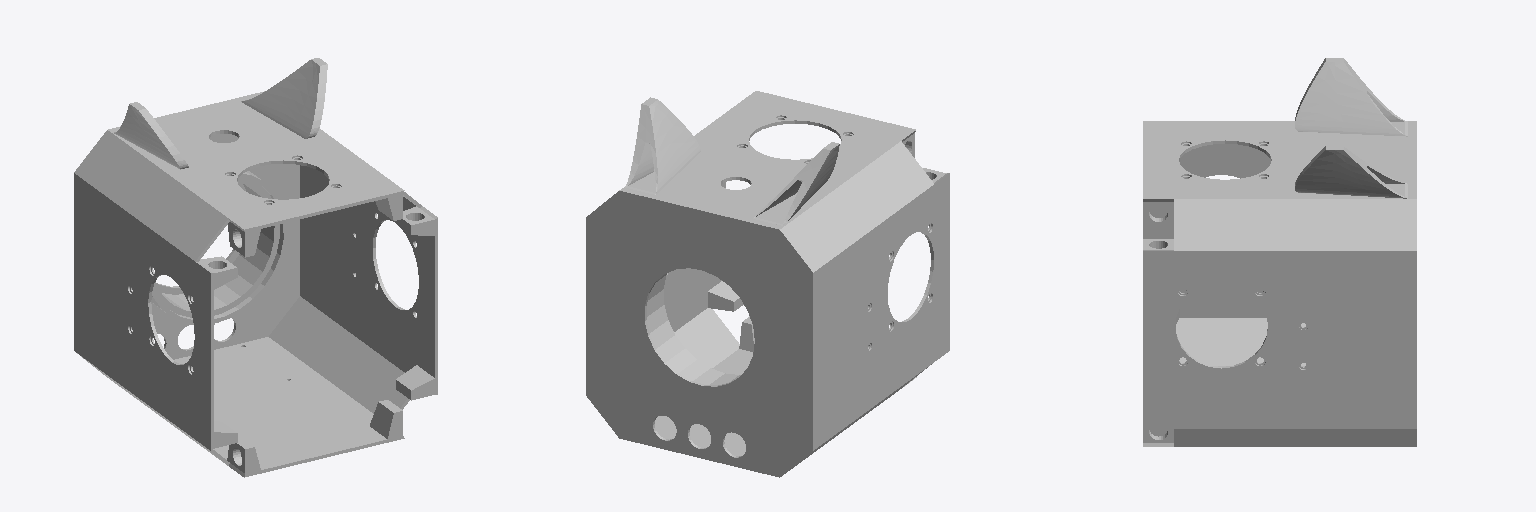
3 renders of one model, left to right at view 1: azimuth 30°, elevation 25°; view 2: azimuth 150°, elevation 25°; view 3: azimuth 270°, elevation 25°, orthographic.
Visible parts, largest first — view 1: 实体1; view 2: 实体1; view 3: 实体1.
Boxes of the visible parts, box(x1,y1,x2,y2) form: 实体1: box(74, 58, 437, 477); 实体1: box(586, 91, 949, 477); 实体1: box(1143, 58, 1416, 446).
Size of the model in its own units: 14.4 by 18.4 by 15.